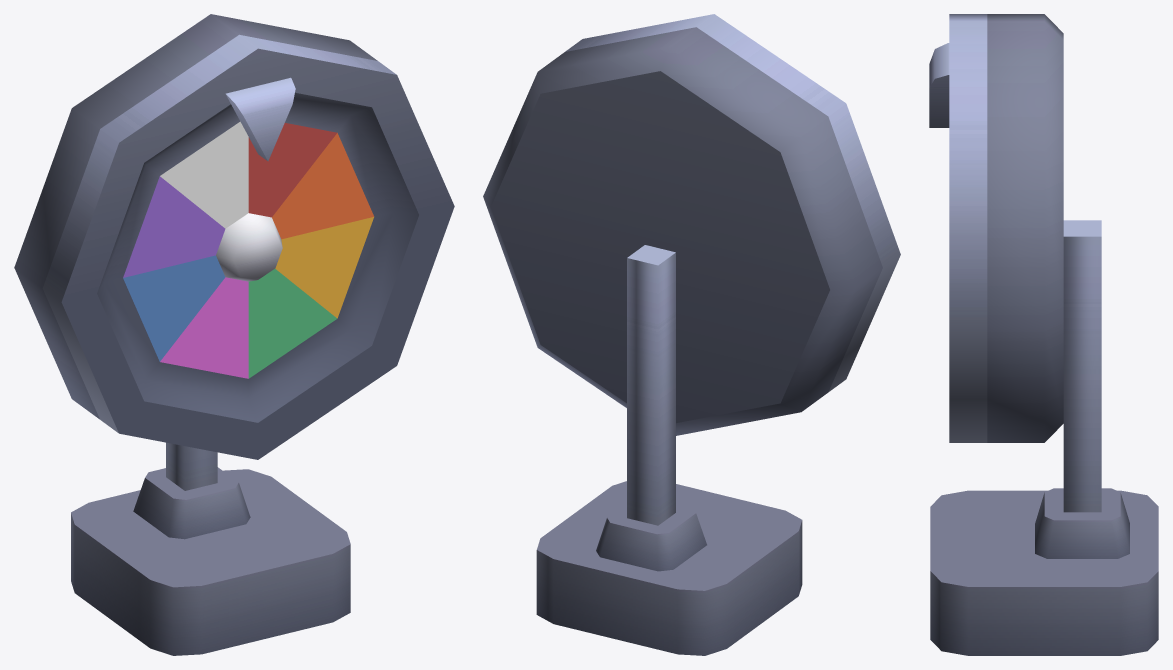
File: prize-wheel.glb
3 renders of one model, left to right at view 1: azimuth 30°, elevation 25°; view 2: azimuth 150°, elevation 25°; view 3: azimuth 270°, elevation 25°, orthographic. The views are drawn at different scales.
Parts seen in each view (by area): view 1: rotate-z, prize-wheel; view 2: rotate-z, prize-wheel; view 3: prize-wheel, rotate-z.
Part boxes in pixels (left/top/right/bottom): rotate-z: left=14, top=14, right=454, bottom=459; prize-wheel: left=71, top=77, right=350, bottom=655; rotate-z: left=483, top=14, right=900, bottom=435; prize-wheel: left=536, top=245, right=802, bottom=655; prize-wheel: left=929, top=43, right=1158, bottom=655; rotate-z: left=949, top=14, right=1063, bottom=442.
Bounding box in the file's own units: 0.6 × 0.85 × 0.3015.
Materials: 1 (1 with a texture image).
